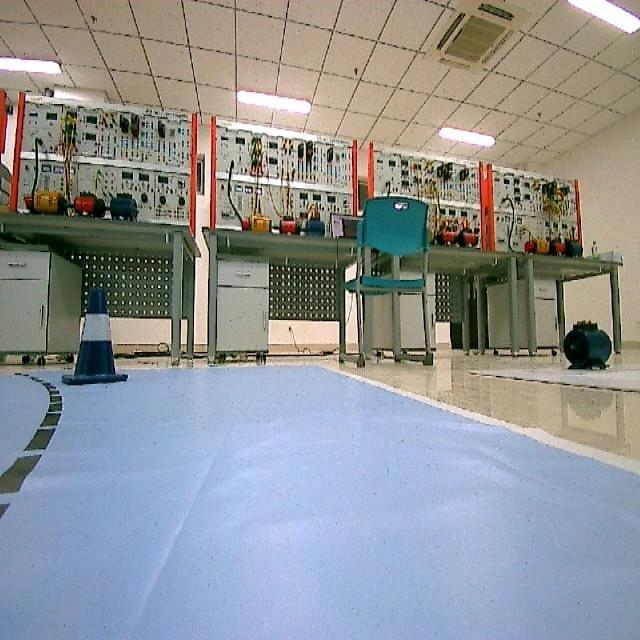obstacle: (57, 277, 134, 395)
